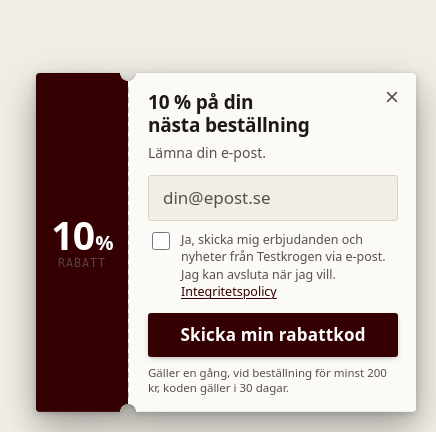
Test: OfferCard › explains a refused sign-up
Type "ny@example.se" into the field with placeholder "din@epost.se" at (273, 198), box [148,175,398,221]
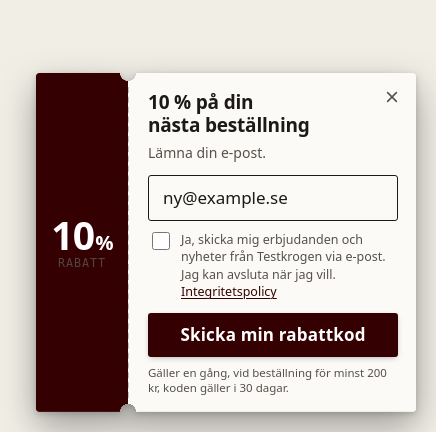
Click the checkbox at (161, 241), box [152,232,170,250]
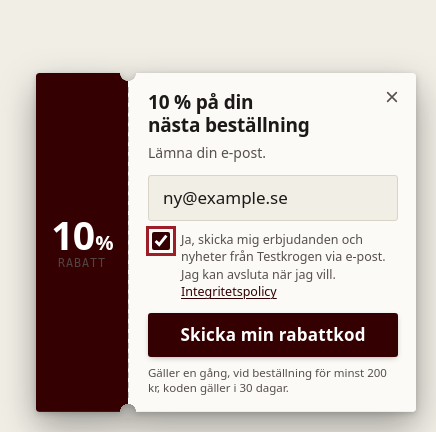
Click the button "Skicka min rabattkod" at (273, 335), box [148,313,398,357]
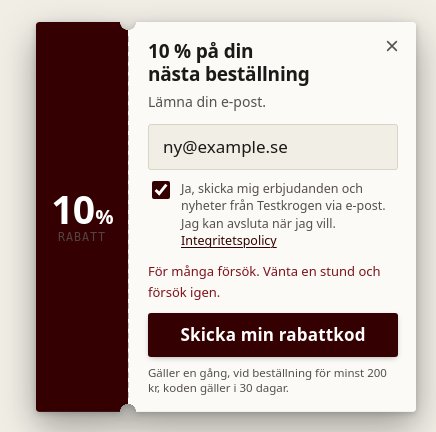
Expected: the message shows "För många försök", [148,262,381,301]
